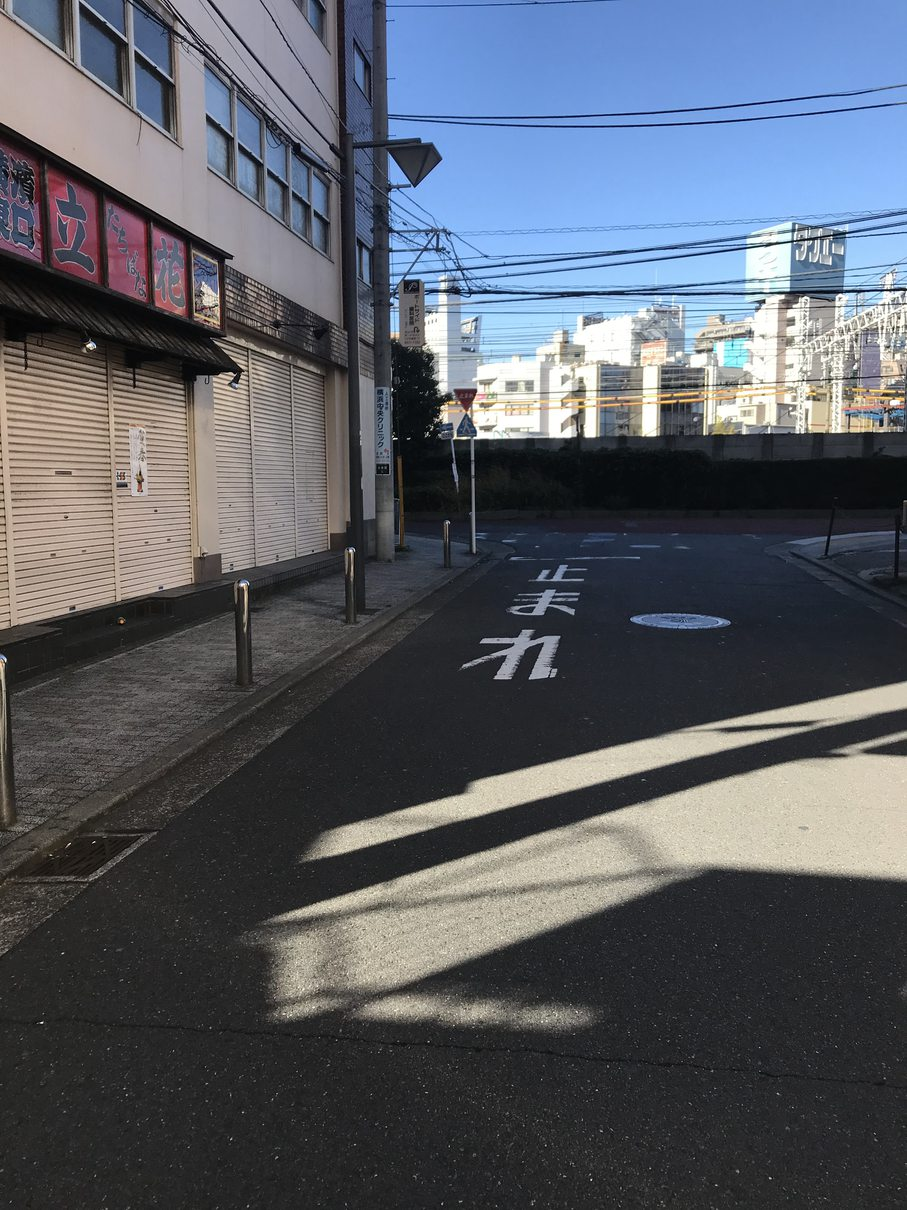stop_sign: (453, 387, 478, 412)
